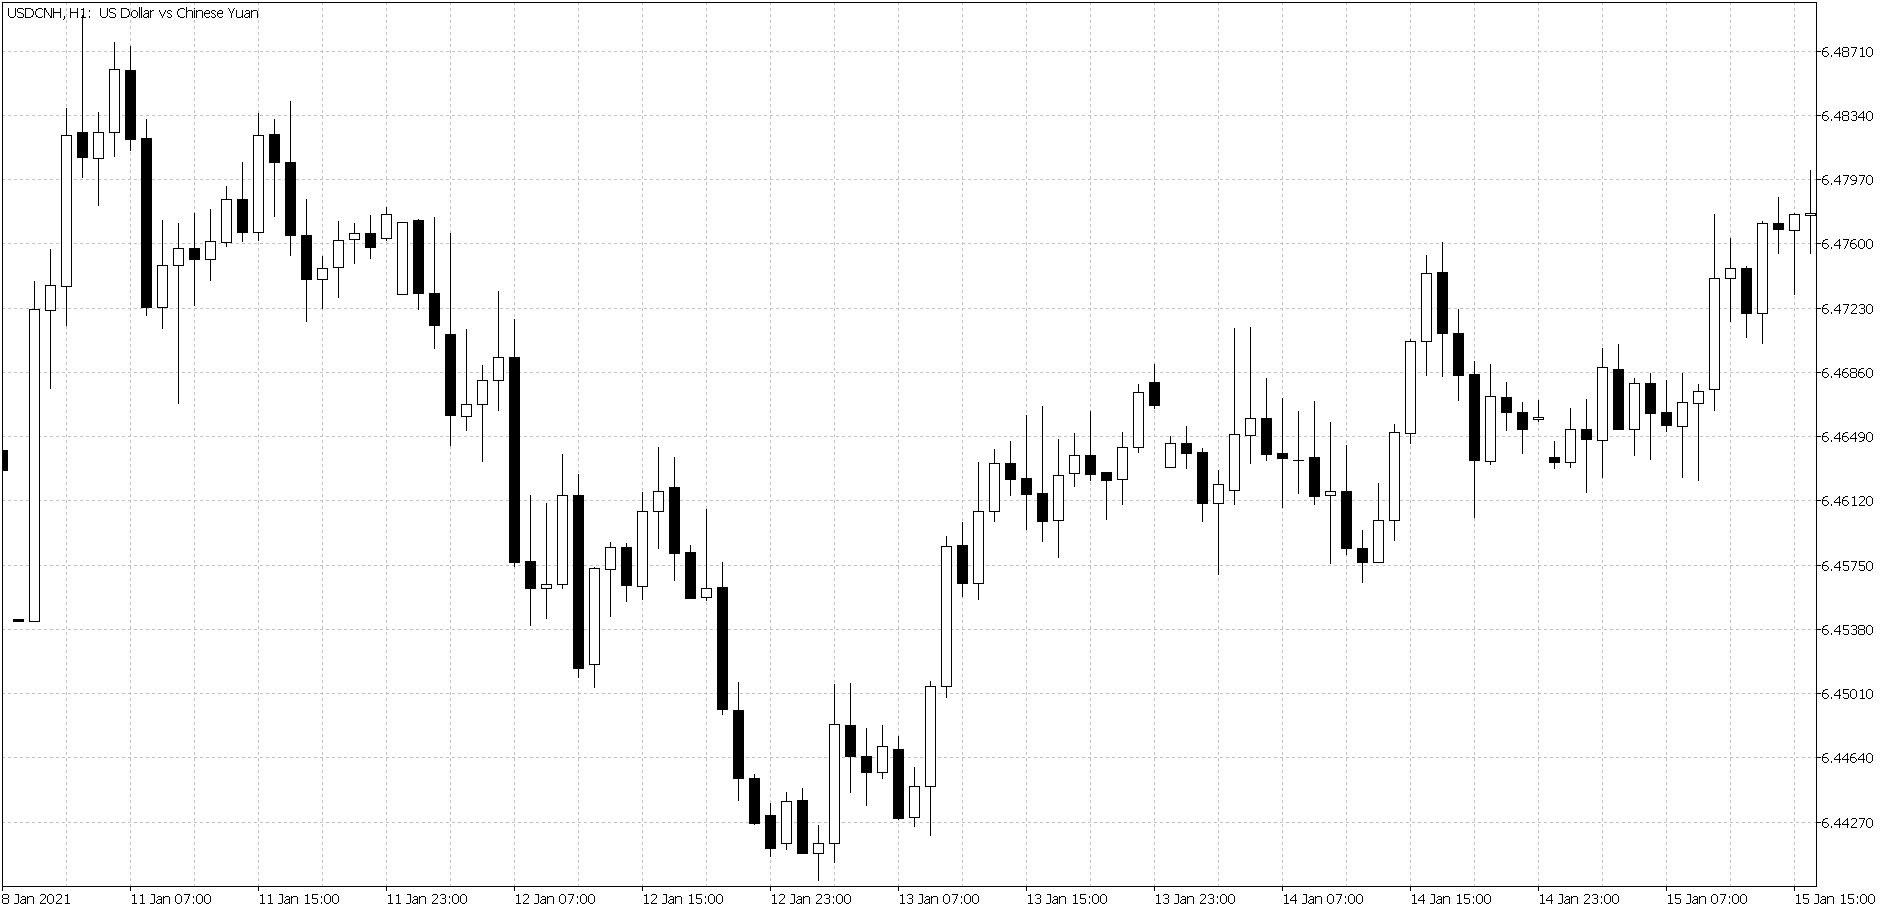3blackcrows: (1435, 240, 1483, 519)
3whitesoldiers: (907, 527, 954, 848)
morningStar: (1340, 444, 1385, 598)
